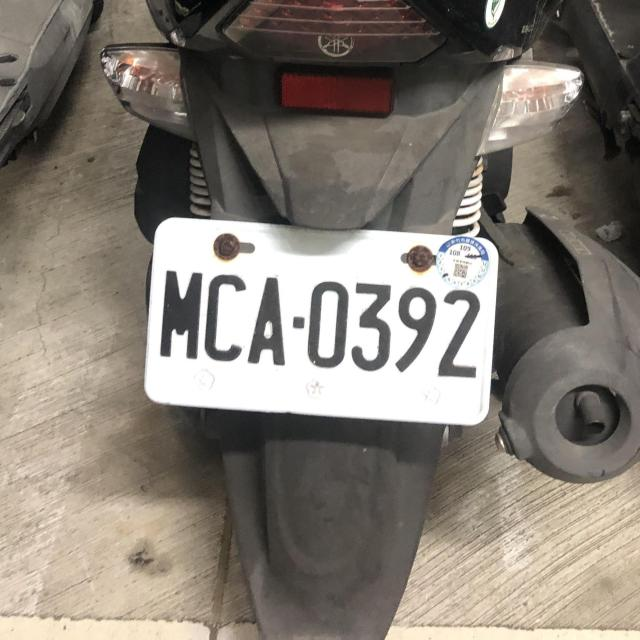W: (139, 207, 503, 431)
